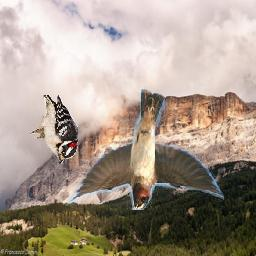Swallow: (66, 90, 225, 211)
Woodpecker: (30, 96, 78, 165)
